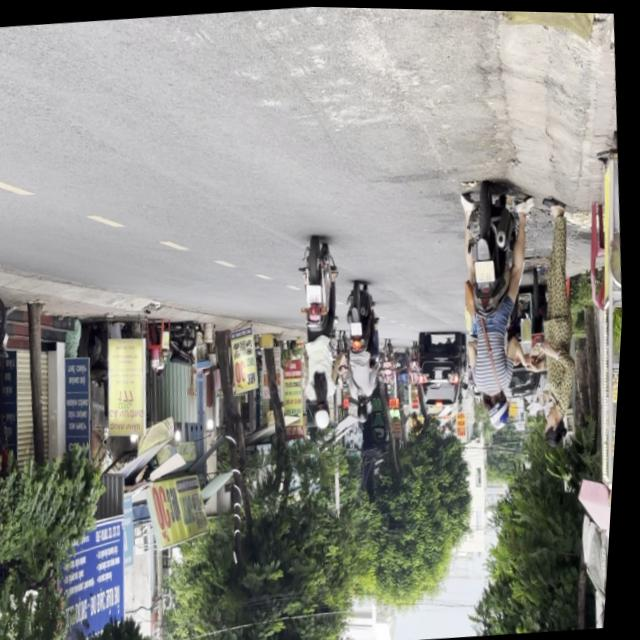helmet: (488, 389, 514, 428), (316, 398, 336, 427)
licenseplate: (445, 176, 549, 434), (289, 235, 356, 432)
nohelmet: (476, 258, 499, 282), (308, 284, 325, 303)
